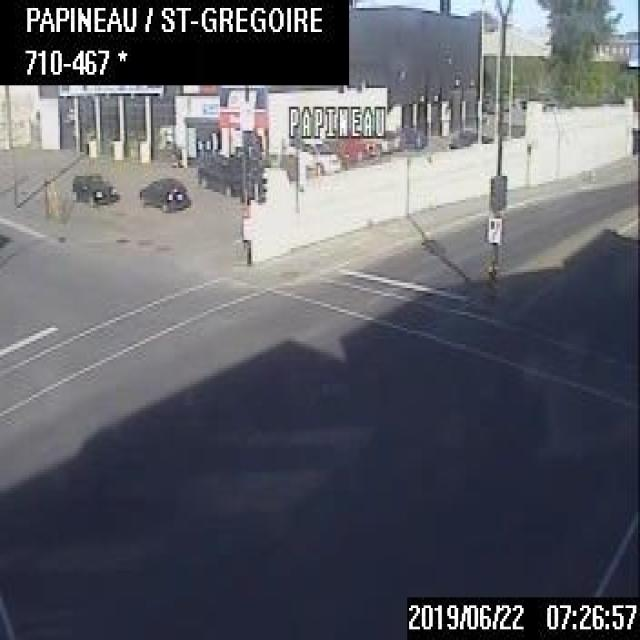vehicle: (286, 132, 340, 174), (194, 150, 240, 198), (140, 173, 187, 210), (72, 170, 116, 204)
